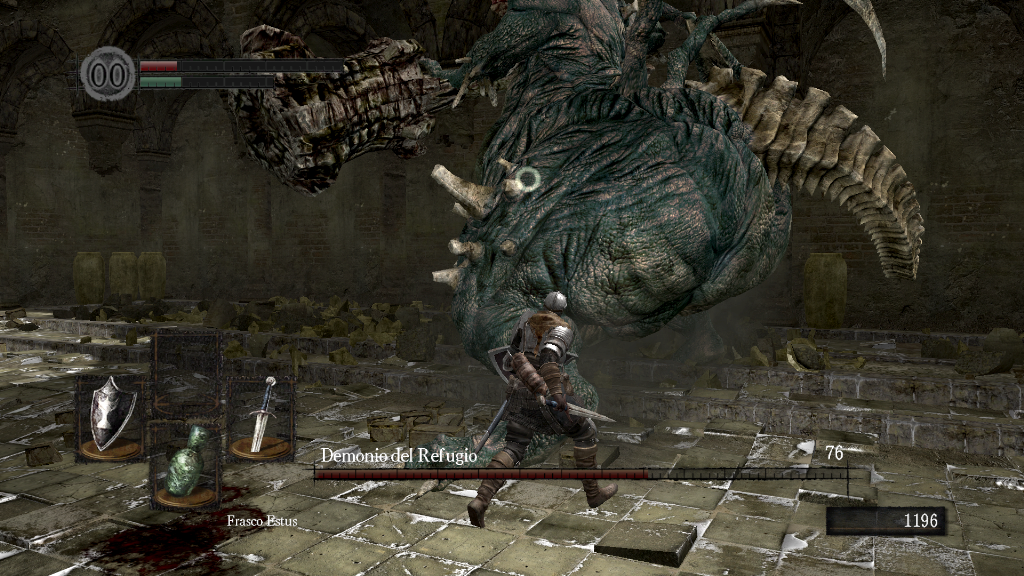asylumDemon: (221, 2, 933, 465)
bossHP: (314, 469, 847, 479)
health: (138, 58, 343, 71)
humanity: (80, 45, 136, 102)
player: (464, 290, 624, 529)
souls: (825, 506, 945, 536)
stamina: (138, 74, 274, 88)
